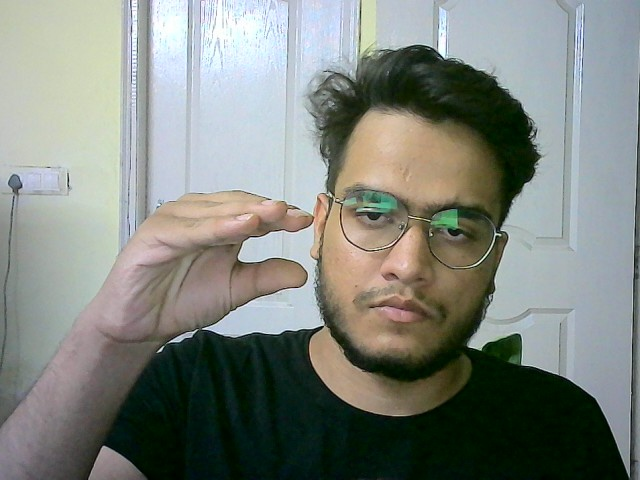No: (82, 187, 316, 340)
